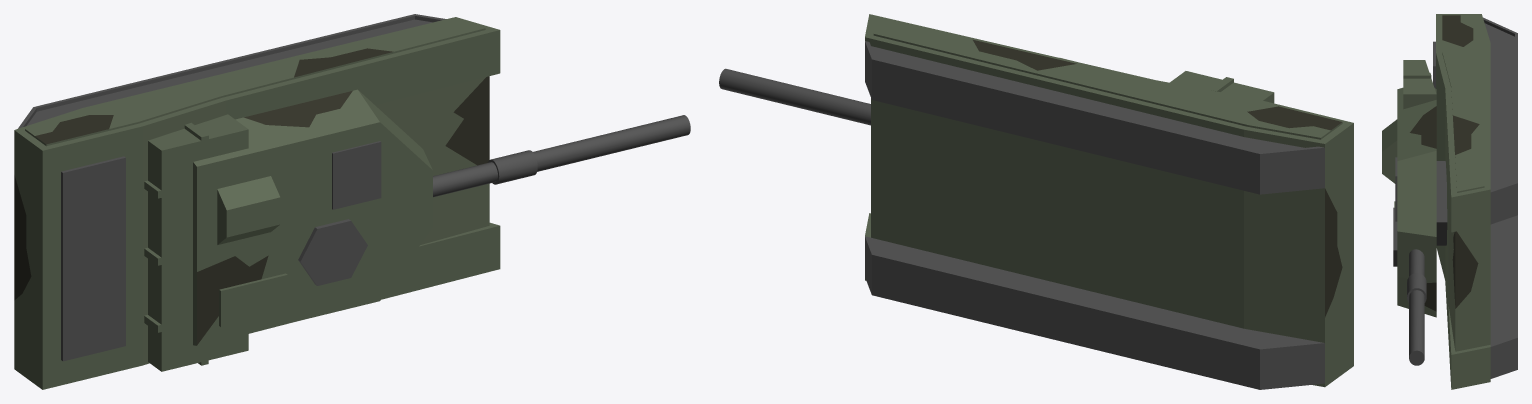
File: abrams.dae
The picture shows the model from 3 angles, left to right: view 1: azimuth 30°, elevation 25°; view 2: azimuth 150°, elevation 25°; view 3: azimuth 270°, elevation 25°; orthographic projection. The views are drawn at different scales.
Parts seen in each view (by area): view 1: coords_ME_ID3_MA_Color_F20, coords_ME_ID11_MA_Color_F20, coords_ME_ID49_MA_material, coords_ME_ID93_MA_Color_F20, coords_ME_ID67_MA_material, coords_ME_ID99_MA_Color_F20, coords_ME_ID43_MA_material, coords_ME_ID61_MA_material, coords_ME_ID55_MA_material, coords_ME_ID129_MA_Color_E25, coords_ME_ID117_MA_Color_E25, coords_ME_ID123_MA_Color_E25 (+5 smaller); view 2: coords_ME_ID11_MA_Color_F20, coords_ME_ID37_MA_material, coords_ME_ID67_MA_material, coords_ME_ID93_MA_Color_F20, coords_ME_ID43_MA_material, coords_ME_ID105_MA_Color_E25, coords_ME_ID3_MA_Color_F20, coords_ME_ID147_MA_Color_E25, coords_ME_ID87_MA_Color_E25; view 3: coords_ME_ID11_MA_Color_F20, coords_ME_ID3_MA_Color_F20, coords_ME_ID67_MA_material, coords_ME_ID93_MA_Color_F20, coords_ME_ID37_MA_material, coords_ME_ID117_MA_Color_E25, coords_ME_ID43_MA_material, coords_ME_ID25_MA_material, coords_ME_ID99_MA_Color_F20, coords_ME_ID147_MA_Color_E25, coords_ME_ID123_MA_Color_E25, coords_ME_ID87_MA_Color_E25 (+6 smaller).
Boxes of the visible parts, <box> form: coords_ME_ID3_MA_Color_F20: <box>144,89,432,371</box>; coords_ME_ID11_MA_Color_F20: <box>14,17,500,389</box>; coords_ME_ID49_MA_material: <box>61,156,125,361</box>; coords_ME_ID93_MA_Color_F20: <box>25,19,485,146</box>; coords_ME_ID67_MA_material: <box>18,14,446,128</box>; coords_ME_ID99_MA_Color_F20: <box>217,176,280,244</box>; coords_ME_ID43_MA_material: <box>533,115,690,171</box>; coords_ME_ID61_MA_material: <box>298,219,367,285</box>; coords_ME_ID55_MA_material: <box>332,141,381,209</box>; coords_ME_ID129_MA_Color_E25: <box>197,255,268,345</box>; coords_ME_ID117_MA_Color_E25: <box>445,76,489,165</box>; coords_ME_ID123_MA_Color_E25: <box>244,91,352,127</box>; coords_ME_ID11_MA_Color_F20: <box>865,14,1353,387</box>; coords_ME_ID37_MA_material: <box>865,236,1324,389</box>; coords_ME_ID67_MA_material: <box>865,41,1324,194</box>; coords_ME_ID93_MA_Color_F20: <box>873,17,1342,139</box>; coords_ME_ID43_MA_material: <box>719,68,870,125</box>; coords_ME_ID105_MA_Color_E25: <box>1325,188,1342,317</box>; coords_ME_ID3_MA_Color_F20: <box>1059,57,1274,103</box>; coords_ME_ID147_MA_Color_E25: <box>1247,106,1341,130</box>; coords_ME_ID87_MA_Color_E25: <box>973,40,1076,70</box>; coords_ME_ID11_MA_Color_F20: <box>1436,14,1490,389</box>; coords_ME_ID3_MA_Color_F20: <box>1394,60,1436,317</box>; coords_ME_ID67_MA_material: <box>1483,17,1517,224</box>; coords_ME_ID93_MA_Color_F20: <box>1442,15,1484,192</box>; coords_ME_ID37_MA_material: <box>1490,215,1517,378</box>; coords_ME_ID117_MA_Color_E25: <box>1452,231,1478,308</box>; coords_ME_ID43_MA_material: <box>1409,290,1424,365</box>; coords_ME_ID25_MA_material: <box>1436,161,1447,245</box>; coords_ME_ID99_MA_Color_F20: <box>1382,119,1397,183</box>; coords_ME_ID147_MA_Color_E25: <box>1442,15,1473,46</box>; coords_ME_ID123_MA_Color_E25: <box>1410,106,1436,148</box>; coords_ME_ID87_MA_Color_E25: <box>1453,115,1479,154</box>.
Size of the model in its own units: 97.26 by 35.74 by 22.52.
